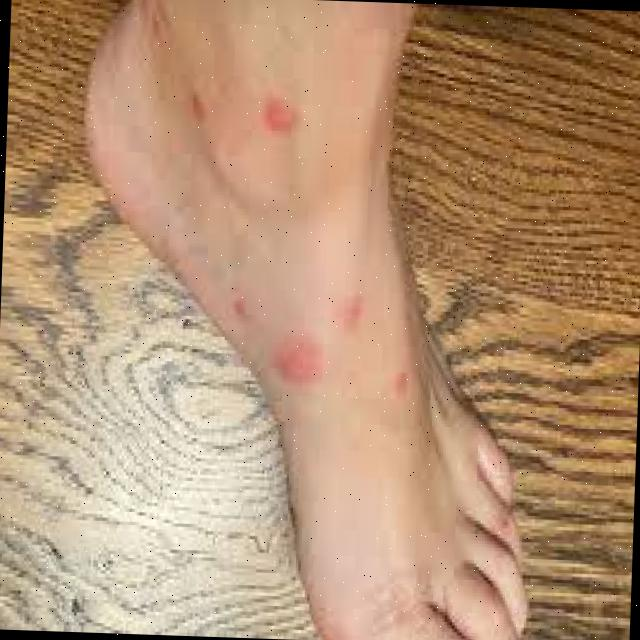kan emici bocekler: (259, 95, 297, 143), (278, 339, 316, 386), (179, 89, 216, 125), (341, 292, 365, 334), (225, 293, 254, 324), (389, 371, 418, 401)
